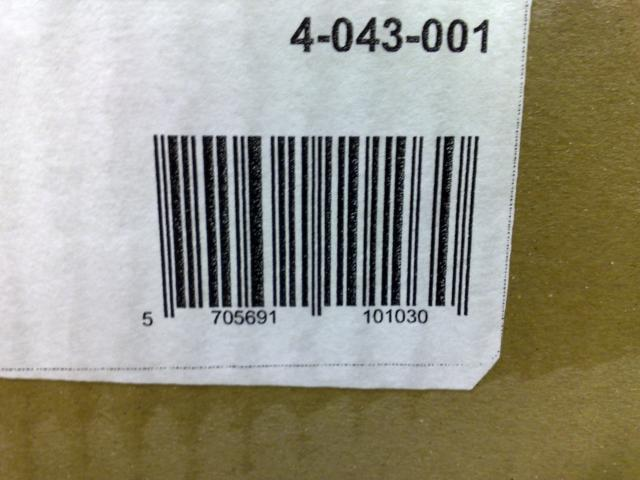Barcode: (130, 116, 491, 344)
